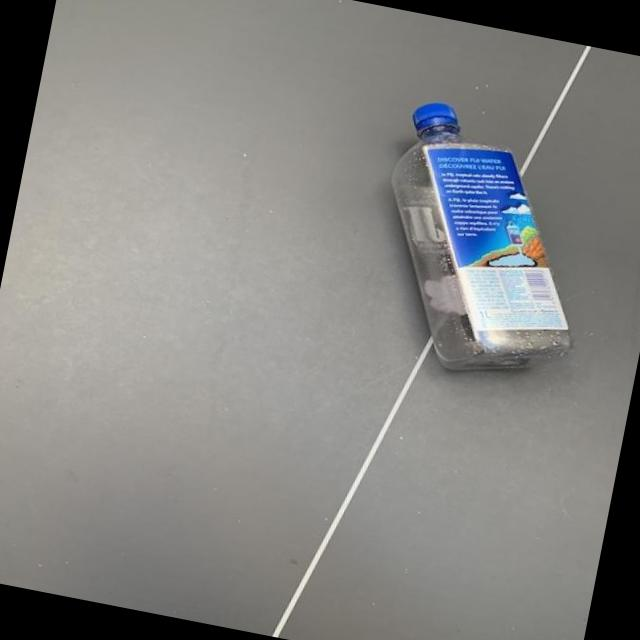plastic_bottle: (357, 96, 612, 392)
